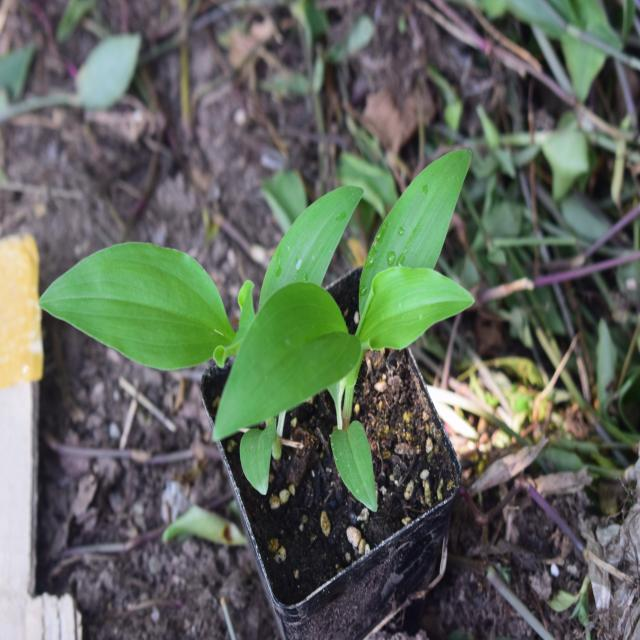Common Dayflower: (243, 140, 479, 498), (58, 230, 246, 421)
